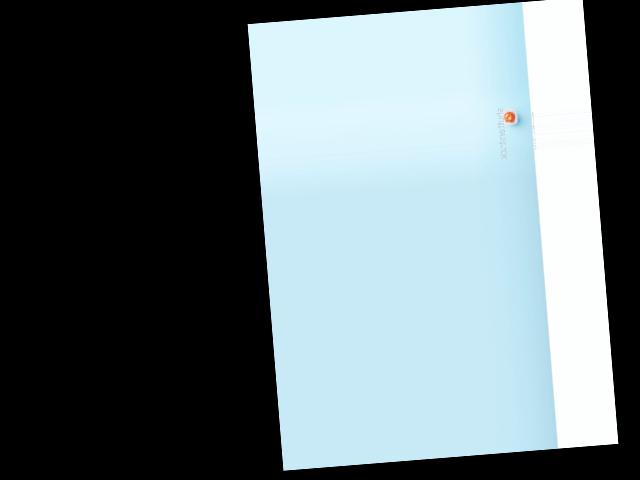tomato: (503, 112, 515, 123)
